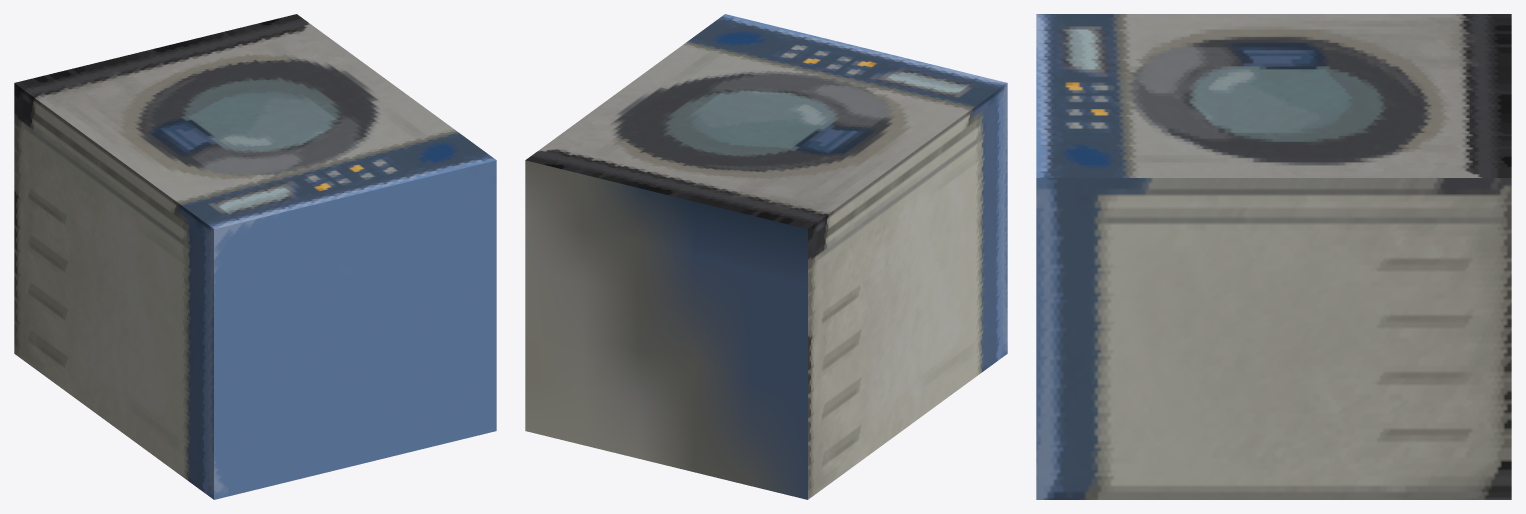
File: pz_g016_blue_combo_washer_dryer.obj
3 views of the same model, side by side, from view 1: azimuth 30°, elevation 25°; view 2: azimuth 150°, elevation 25°; view 3: azimuth 270°, elevation 25° (orthographic). The views are drawn at different scales.
Parts seen in each view (by area): view 1: native_component_0_z+, native_component_0_y+, native_component_0_x-; view 2: native_component_0_z-, native_component_0_y+, native_component_0_x-; view 3: native_component_0_x+, native_component_0_y+.
Boxes of the visible parts, left/top/right/bottom form: native_component_0_z+: left=214, top=160, right=496, bottom=499; native_component_0_y+: left=15, top=14, right=496, bottom=229; native_component_0_x-: left=14, top=83, right=213, bottom=499; native_component_0_z-: left=525, top=160, right=807, bottom=499; native_component_0_y+: left=525, top=14, right=1006, bottom=229; native_component_0_x-: left=808, top=83, right=1007, bottom=499; native_component_0_x+: left=1036, top=178, right=1511, bottom=499; native_component_0_y+: left=1036, top=14, right=1511, bottom=177.
Bounding box in the file's own units: 0.7848 × 0.7184 × 0.9615.
Materials: 1 (1 with a texture image).
